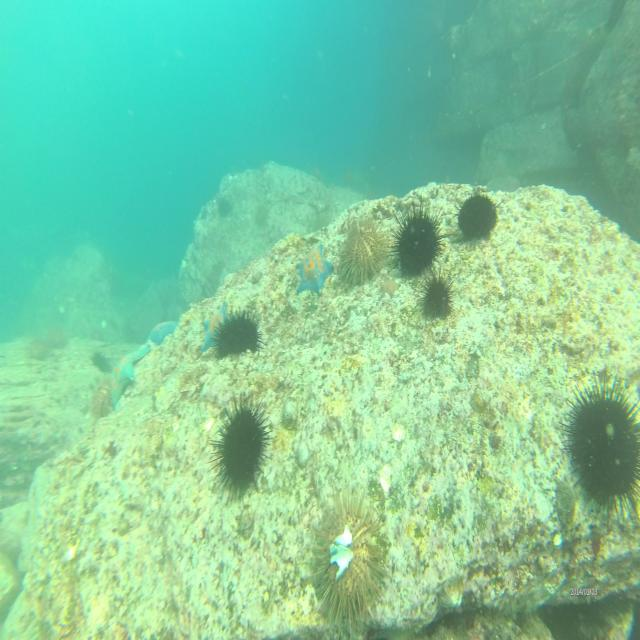echinus: (563, 365, 640, 529), (308, 496, 389, 640), (210, 389, 268, 502), (389, 196, 446, 277), (338, 209, 389, 286), (213, 310, 263, 358), (456, 185, 496, 239), (420, 264, 452, 326)
starfish: (109, 341, 152, 411), (298, 240, 335, 300), (203, 304, 234, 354), (146, 315, 180, 341)
